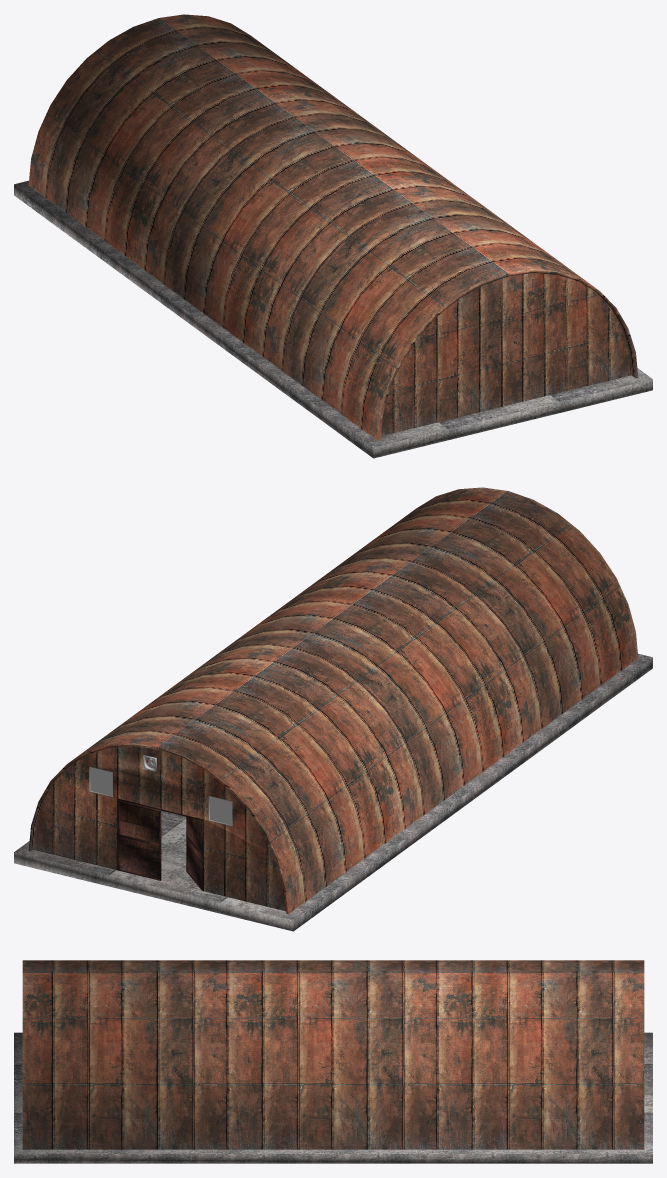
File: cold_arched_warehouse.fbx
3 renders of one model, top to bottom at view 1: azimuth 30°, elevation 25°; view 2: azimuth 150°, elevation 25°; view 3: azimuth 270°, elevation 25°, orthographic. The views are drawn at different scales.
Parts seen in each view (by area): view 1: roof, walls, base; view 2: roof, walls, base, gate_frame_001, gate_frame_002, window; view 3: roof, base.
Boxes of the visible parts, <box> form: roof: <box>28,14,638,441</box>; walls: <box>381,273,631,436</box>; base: <box>14,180,652,458</box>; roof: <box>28,487,638,914</box>; walls: <box>33,746,285,911</box>; base: <box>14,653,652,931</box>; gate_frame_001: <box>118,800,161,880</box>; gate_frame_002: <box>186,817,202,890</box>; window: <box>208,796,232,826</box>; roof: <box>22,960,644,1149</box>; base: <box>14,1032,652,1163</box>.
Size of the model in its own units: 646 by 324 by 1439.
